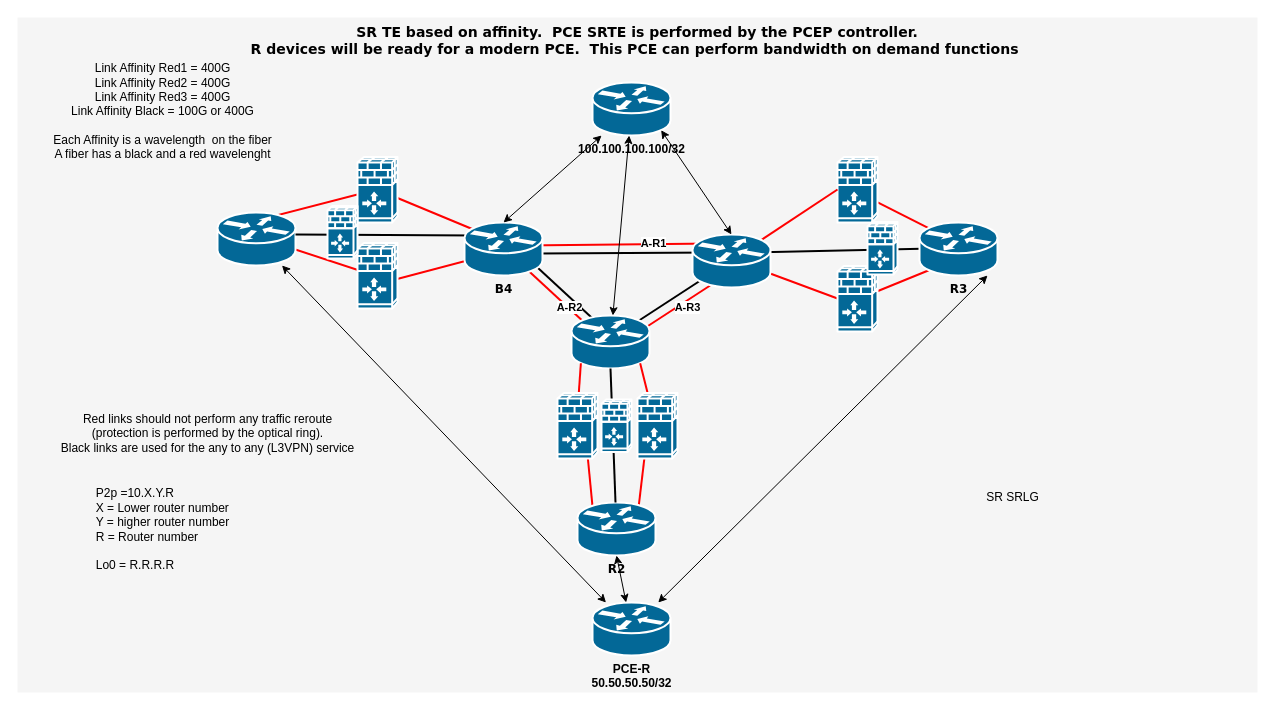
This 1274x709 diagram has some shape labels left out. The shapes that lost their labels are listed below. From the top down, each one's centre as x and y in pixels, then its label:
the point at 256,238: R1
the point at 731,260: B6
the point at 610,341: B5
